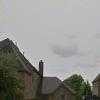Chimney: (33, 54, 54, 81)
